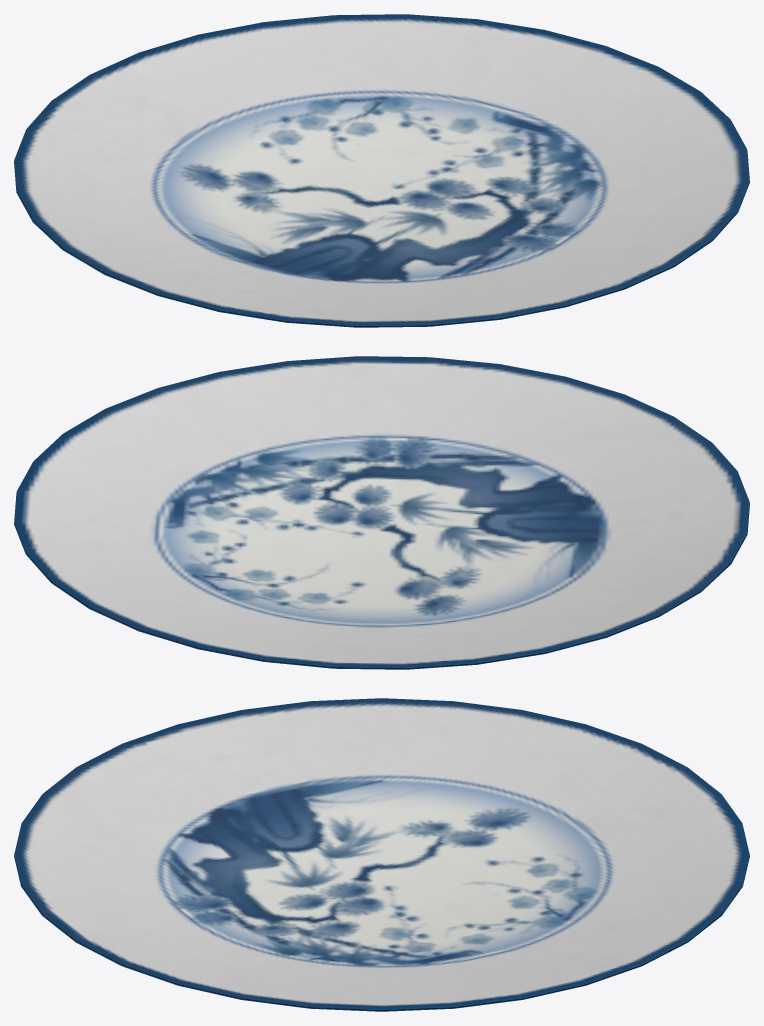
The model's file is jov_porcelain04a.fbx.
3 views of the same model, one above another, from view 1: azimuth 30°, elevation 25°; view 2: azimuth 150°, elevation 25°; view 3: azimuth 270°, elevation 25° (orthographic).
Parts seen in each view (by area): view 1: jov_porcelain04a; view 2: jov_porcelain04a; view 3: jov_porcelain04a.
Part boxes in pixels (x1,y1,x2,y2): jov_porcelain04a: (14, 14, 749, 327); jov_porcelain04a: (14, 356, 749, 669); jov_porcelain04a: (14, 698, 749, 1011).
Size of the model in its own units: 0.4385 by 0.0181 by 0.4385.
